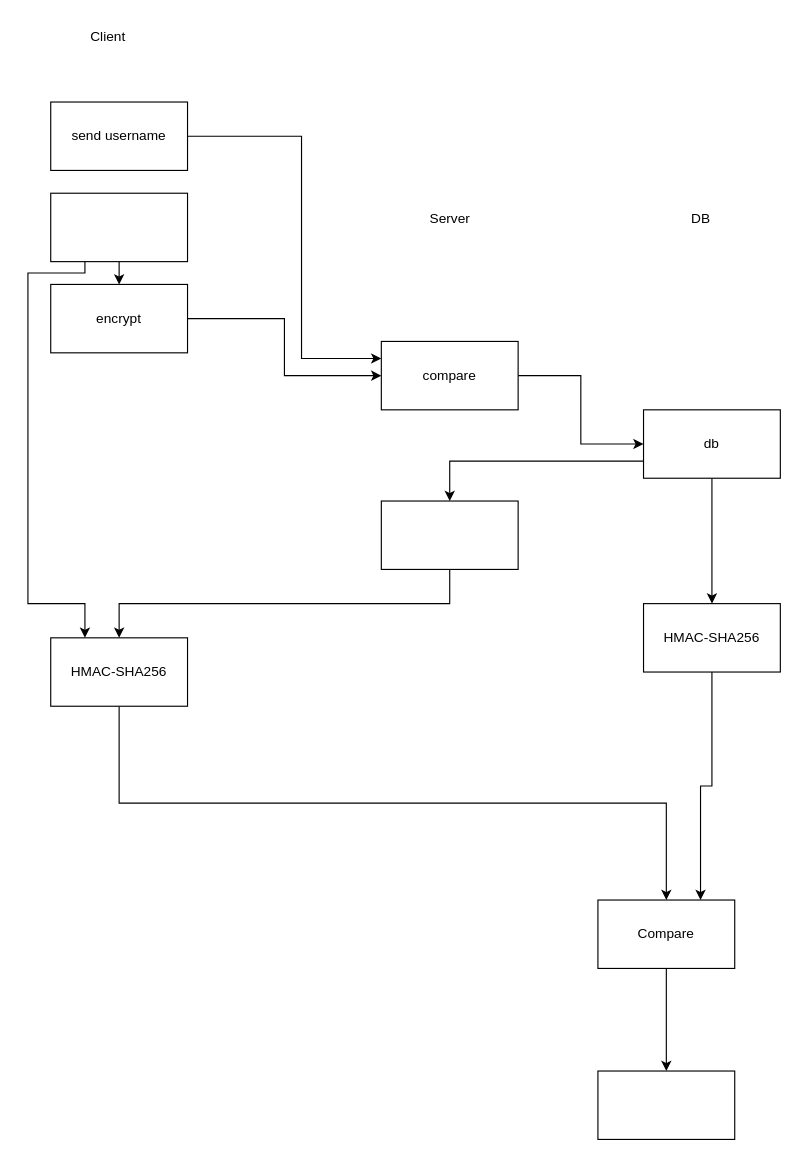
Some shapes in this 800 by 1159 pixel diagram are drawn without their labels. The shapes that lost their labels are listed below. From the top down, each one's centre as x and y in pixels, then its label:
At point 119,227: "send pwd".
At point 449,534: "generate chanllenge".
At point 666,1104: "log in!".
